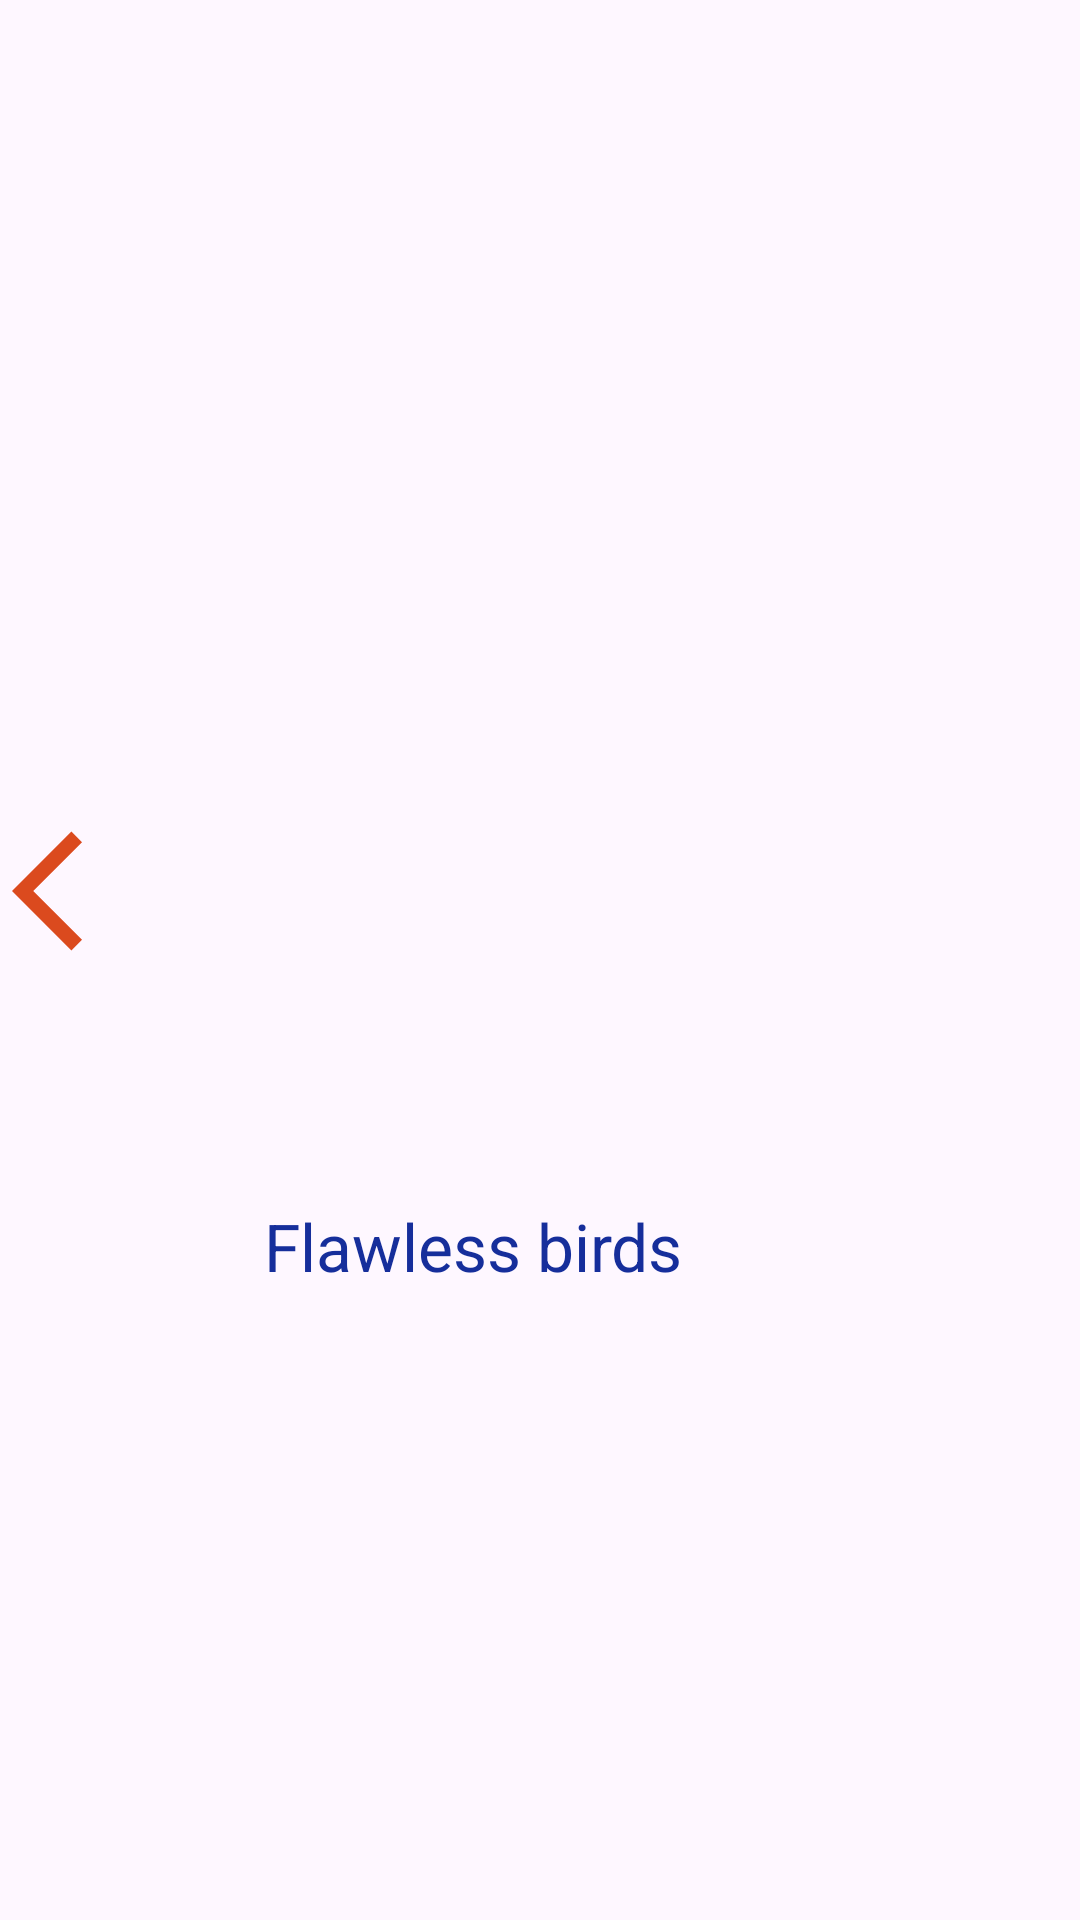

Icon bounding boxes for this 1080×1920 phone screenshot, format (x1, y1, x2, y2):
arrow back: (12, 831, 82, 951)
